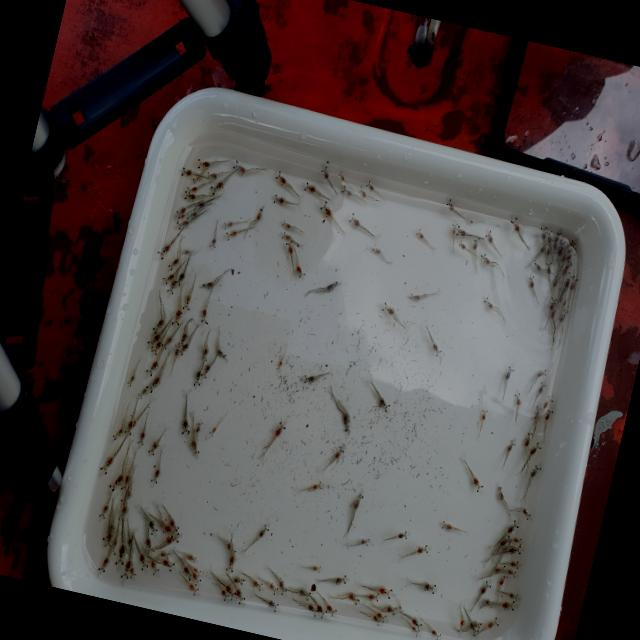babyshrimp: (144, 372, 163, 396), (95, 551, 111, 578), (143, 355, 161, 379), (108, 468, 125, 493), (99, 452, 115, 477), (109, 418, 125, 443), (255, 518, 271, 541), (142, 333, 161, 352), (155, 239, 173, 259), (272, 419, 287, 443), (380, 301, 398, 321), (225, 543, 236, 571), (504, 517, 522, 534), (208, 177, 226, 194), (119, 557, 132, 580), (343, 588, 360, 605), (114, 541, 126, 565), (352, 488, 364, 512), (98, 498, 111, 520), (151, 315, 166, 334), (347, 211, 362, 230), (171, 302, 182, 327), (471, 472, 484, 493), (375, 585, 396, 598), (319, 162, 332, 183), (509, 215, 522, 236), (159, 556, 176, 572), (231, 159, 248, 175), (480, 251, 496, 268), (420, 579, 438, 594), (162, 520, 177, 538), (161, 269, 179, 284), (163, 531, 182, 545), (138, 549, 149, 573), (119, 471, 131, 493), (431, 337, 443, 359), (180, 562, 193, 582), (147, 437, 160, 457), (150, 335, 163, 355), (296, 585, 313, 600), (117, 500, 128, 523), (502, 361, 514, 382), (149, 463, 161, 484), (191, 430, 200, 458), (166, 254, 180, 272), (319, 199, 332, 218), (411, 542, 431, 554), (276, 575, 288, 595), (382, 603, 399, 617), (275, 169, 289, 186), (341, 407, 350, 433), (175, 267, 187, 286), (378, 395, 390, 414), (513, 386, 522, 411), (181, 413, 190, 438), (455, 224, 470, 239), (264, 598, 280, 612), (303, 180, 319, 194), (124, 415, 135, 435), (182, 290, 193, 310), (501, 598, 519, 610), (234, 586, 246, 604), (324, 280, 342, 292), (528, 441, 542, 456), (331, 573, 350, 584), (126, 370, 137, 389), (270, 193, 289, 204), (484, 228, 495, 247), (161, 334, 174, 350), (167, 516, 179, 533), (225, 228, 242, 240), (415, 227, 427, 244), (148, 516, 158, 536), (255, 202, 265, 222), (144, 536, 155, 554), (195, 157, 213, 168), (440, 518, 455, 531), (529, 462, 541, 478), (479, 578, 491, 594), (315, 603, 327, 619), (192, 368, 202, 387), (543, 391, 554, 408), (200, 362, 211, 379), (180, 165, 197, 176), (481, 294, 494, 308), (429, 626, 442, 640), (325, 602, 337, 617), (333, 443, 345, 458), (446, 196, 457, 212), (150, 560, 160, 577), (408, 290, 425, 300), (411, 616, 424, 629), (266, 582, 279, 595), (186, 581, 199, 594), (215, 347, 228, 360), (339, 183, 352, 196), (520, 506, 532, 520), (487, 615, 499, 629), (306, 602, 318, 616), (505, 437, 516, 452), (532, 258, 543, 273), (523, 429, 532, 447), (137, 429, 146, 447), (173, 219, 189, 229), (186, 551, 199, 563), (536, 380, 547, 394), (506, 591, 520, 602), (366, 590, 380, 601), (252, 577, 263, 591), (183, 190, 197, 201), (301, 373, 315, 384), (157, 549, 174, 558), (201, 344, 210, 361), (284, 239, 293, 256), (507, 544, 522, 554), (308, 479, 323, 489), (357, 536, 372, 546), (497, 483, 505, 501), (200, 305, 208, 323), (209, 230, 217, 248), (296, 263, 305, 279), (280, 229, 292, 241), (365, 180, 377, 192), (457, 239, 469, 251), (493, 562, 506, 573), (468, 622, 479, 635), (369, 245, 382, 256), (508, 558, 522, 568), (395, 529, 409, 539), (308, 562, 322, 572), (191, 571, 201, 585), (198, 281, 215, 289), (545, 407, 554, 422), (191, 565, 202, 577), (281, 217, 293, 228), (534, 402, 542, 418), (195, 420, 203, 436), (545, 260, 553, 276), (209, 423, 218, 437), (186, 184, 200, 193), (497, 574, 508, 585), (410, 625, 421, 636), (480, 407, 488, 422), (535, 367, 547, 377), (231, 576, 246, 584), (129, 565, 137, 580), (223, 219, 235, 229), (549, 297, 557, 312), (358, 184, 367, 197), (507, 568, 518, 578), (377, 611, 387, 622), (207, 170, 218, 180), (166, 282, 175, 294), (458, 617, 465, 632), (528, 274, 534, 291), (371, 615, 381, 625), (337, 169, 345, 181), (275, 358, 283, 370), (512, 536, 522, 545), (180, 248, 191, 255), (474, 620, 483, 627)
